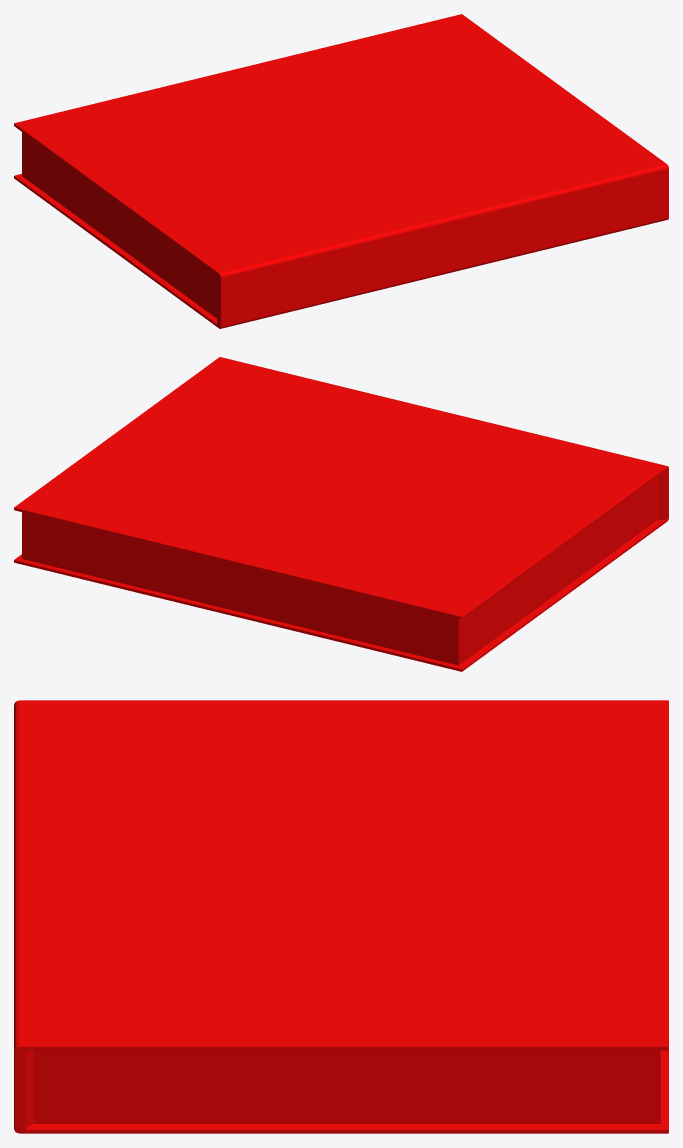
The model's file is umgebung_buch_low.FBX.
3 views of the same model, one above another, from view 1: azimuth 30°, elevation 25°; view 2: azimuth 150°, elevation 25°; view 3: azimuth 270°, elevation 25° (orthographic). The views are drawn at different scales.
Parts seen in each view (by area): view 1: o_buch_low; view 2: o_buch_low; view 3: o_buch_low.
Boxes of the visible parts, x1=… form: o_buch_low: x1=14, y1=14, x2=668, y2=328; o_buch_low: x1=14, y1=357, x2=668, y2=671; o_buch_low: x1=14, y1=700, x2=668, y2=1133.
Bounding box in the file's own units: 54.83 × 43.87 × 6.48.
